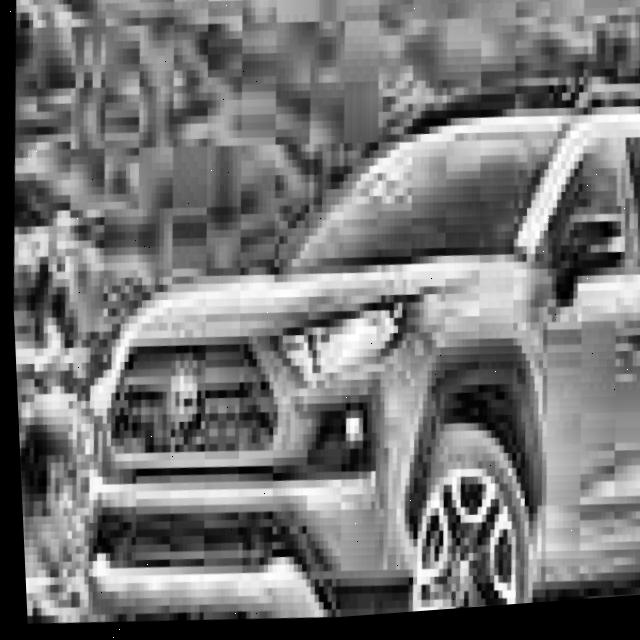light_vehicle: (60, 72, 640, 637)
